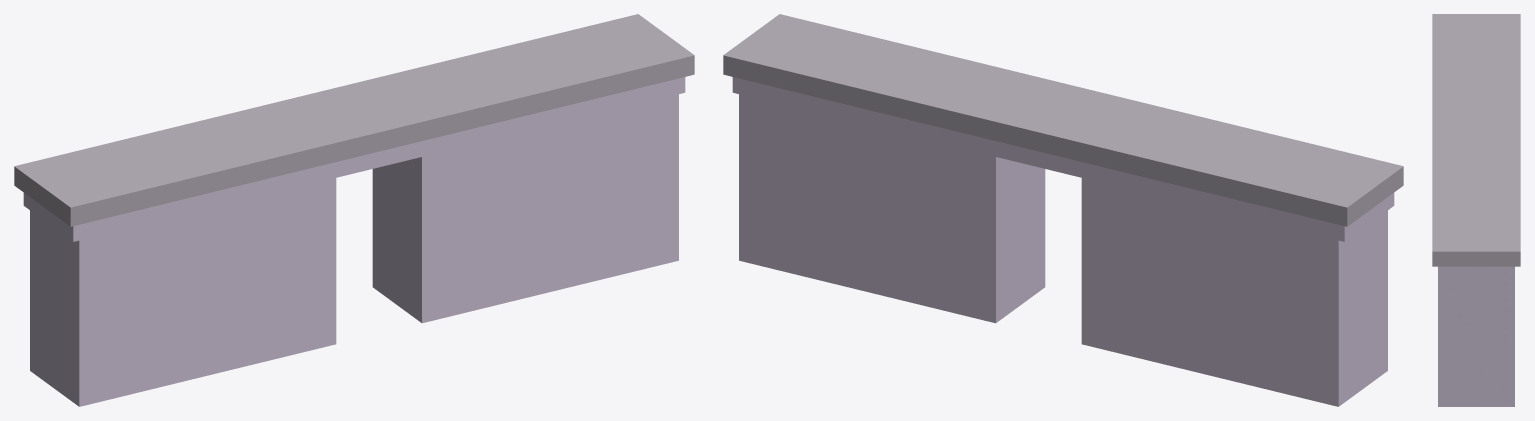
File: Deco_StoneWall_Window.fbx
The picture shows the model from 3 angles, left to right: view 1: azimuth 30°, elevation 25°; view 2: azimuth 150°, elevation 25°; view 3: azimuth 270°, elevation 25°; orthographic projection. The views are drawn at different scales.
Visible parts, largest first — view 1: Deco_StoneWall_Window_Side_-1, Deco_StoneWall_Window, Deco_StoneWall_Window_Cap, Deco_StoneWall_Window_Top; view 2: Deco_StoneWall_Window_Side_-1, Deco_StoneWall_Window, Deco_StoneWall_Window_Cap, Deco_StoneWall_Window_Top; view 3: Deco_StoneWall_Window_Cap, Deco_StoneWall_Window, Deco_StoneWall_Window_Top.
Part boxes in pixels (x1,y1,x2,y2): Deco_StoneWall_Window_Side_-1: [30, 162, 336, 406]; Deco_StoneWall_Window: [372, 78, 678, 323]; Deco_StoneWall_Window_Cap: [14, 14, 694, 226]; Deco_StoneWall_Window_Top: [23, 77, 685, 241]; Deco_StoneWall_Window_Side_-1: [1081, 162, 1387, 406]; Deco_StoneWall_Window: [739, 79, 1045, 323]; Deco_StoneWall_Window_Cap: [723, 14, 1403, 226]; Deco_StoneWall_Window_Top: [732, 77, 1394, 241]; Deco_StoneWall_Window_Cap: [1432, 14, 1520, 266]; Deco_StoneWall_Window: [1438, 279, 1514, 406]; Deco_StoneWall_Window_Top: [1438, 266, 1514, 279].
Bounding box in the file's own units: 1.02 × 0.32 × 0.16.
